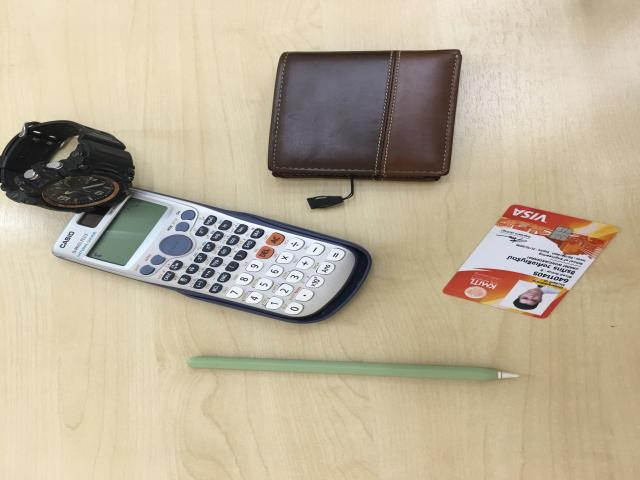Wallet: (267, 49, 463, 183)
Watch: (0, 120, 135, 215)
